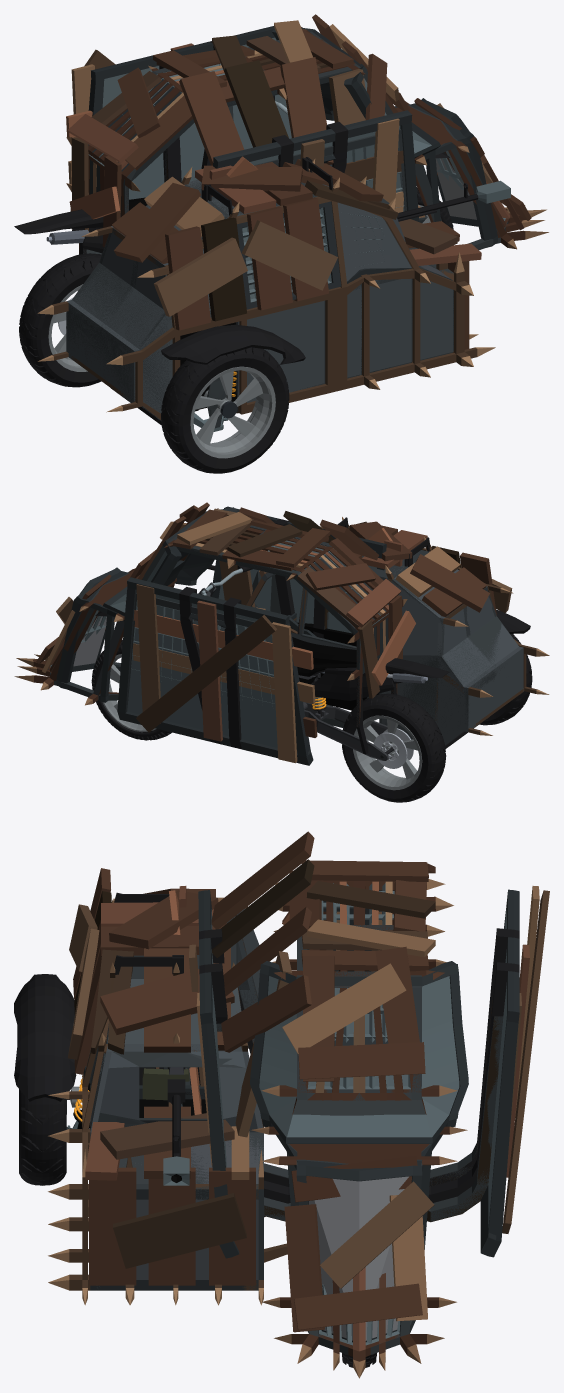
The model's file is Moto_01.fbx.
3 views of the same model, one above another, from view 1: azimuth 30°, elevation 25°; view 2: azimuth 150°, elevation 25°; view 3: azimuth 270°, elevation 25° (orthographic). The views are drawn at different scales.
Visible parts, largest first — view 1: Frame.003, Frame.001, Frame_Baords.001, Frame.002, Solid_metal, Sport_Tire.002, Frame_Baords, Side_Left.002, Side_Left.003, Sport_Tire.001, Disk.012, Side_Right (+11 smaller); view 2: Side_Left, Side_Left.002, Frame_Baords.001, Frame.003, Frame.001, Solid_metal, Frame_Baords, Frame.002, Sport_Tire.001, Frame, Side_Left.003, Solid_metal.001 (+12 smaller); view 3: Frame.003, Frame_Baords.001, Solid_metal, Frame_Baords, Frame.001, Side_Left.002, Side_Left, Solid_metal.001, Wing.002, Side_Left.003, Frame.002, Sport_Tire.002 (+7 smaller).
Part boxes in pixels (x1,y1,x2,y2): Frame.003: [37, 53, 495, 419]; Frame.001: [66, 160, 452, 425]; Frame_Baords.001: [68, 14, 531, 247]; Frame.002: [66, 157, 453, 419]; Solid_metal: [79, 27, 497, 254]; Sport_Tire.002: [161, 347, 289, 473]; Frame_Baords: [66, 30, 548, 254]; Side_Left.002: [88, 26, 291, 199]; Side_Left.003: [213, 110, 419, 221]; Sport_Tire.001: [19, 253, 101, 387]; Disk.012: [190, 366, 275, 458]; Side_Right: [209, 118, 403, 212]; Side_Left: [133, 584, 317, 763]; Side_Left.002: [117, 577, 313, 765]; Frame_Baords.001: [36, 502, 415, 698]; Frame.003: [179, 505, 549, 735]; Frame.001: [247, 559, 523, 748]; Solid_metal: [56, 507, 396, 754]; Frame_Baords: [14, 527, 407, 726]; Frame.002: [251, 550, 509, 738]; Sport_Tire.001: [342, 693, 446, 802]; Frame: [221, 626, 449, 700]; Side_Left.003: [211, 506, 386, 638]; Solid_metal.001: [48, 523, 393, 726]; Frame.003: [48, 831, 314, 1305]; Frame_Baords.001: [274, 860, 444, 1332]; Solid_metal: [250, 890, 468, 1342]; Frame_Baords: [251, 879, 467, 1378]; Frame.001: [90, 908, 264, 1288]; Side_Left.002: [428, 889, 519, 1257]; Side_Left: [427, 886, 549, 1233]; Solid_metal.001: [288, 883, 430, 1354]; Wing.002: [14, 974, 76, 1101]; Side_Left.003: [198, 890, 290, 1258]; Frame.002: [90, 915, 263, 1290]; Sport_Tire.002: [19, 1089, 66, 1185].
Bounding box in the file's own units: 257 × 135 × 170.
